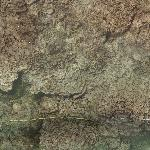dead: (5, 5, 145, 146)
